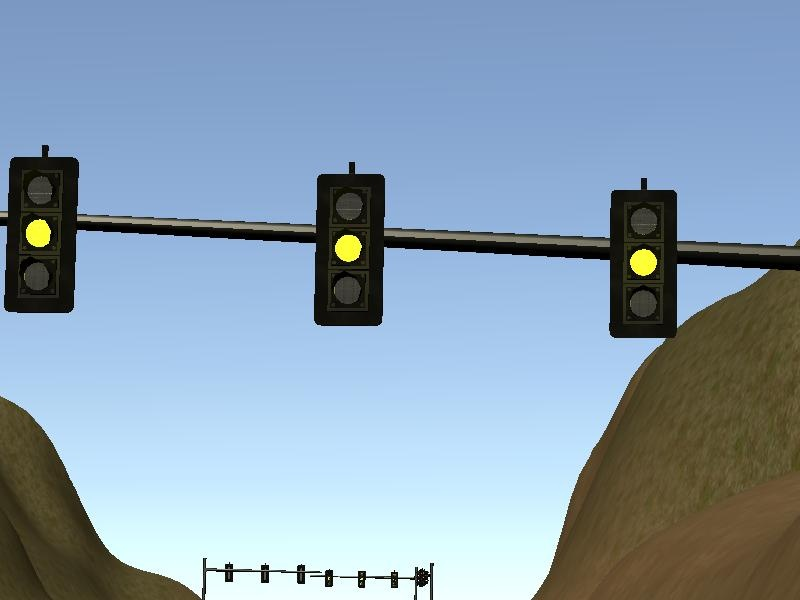yellow: (306, 159, 393, 335), (3, 145, 82, 322), (602, 180, 684, 343)
